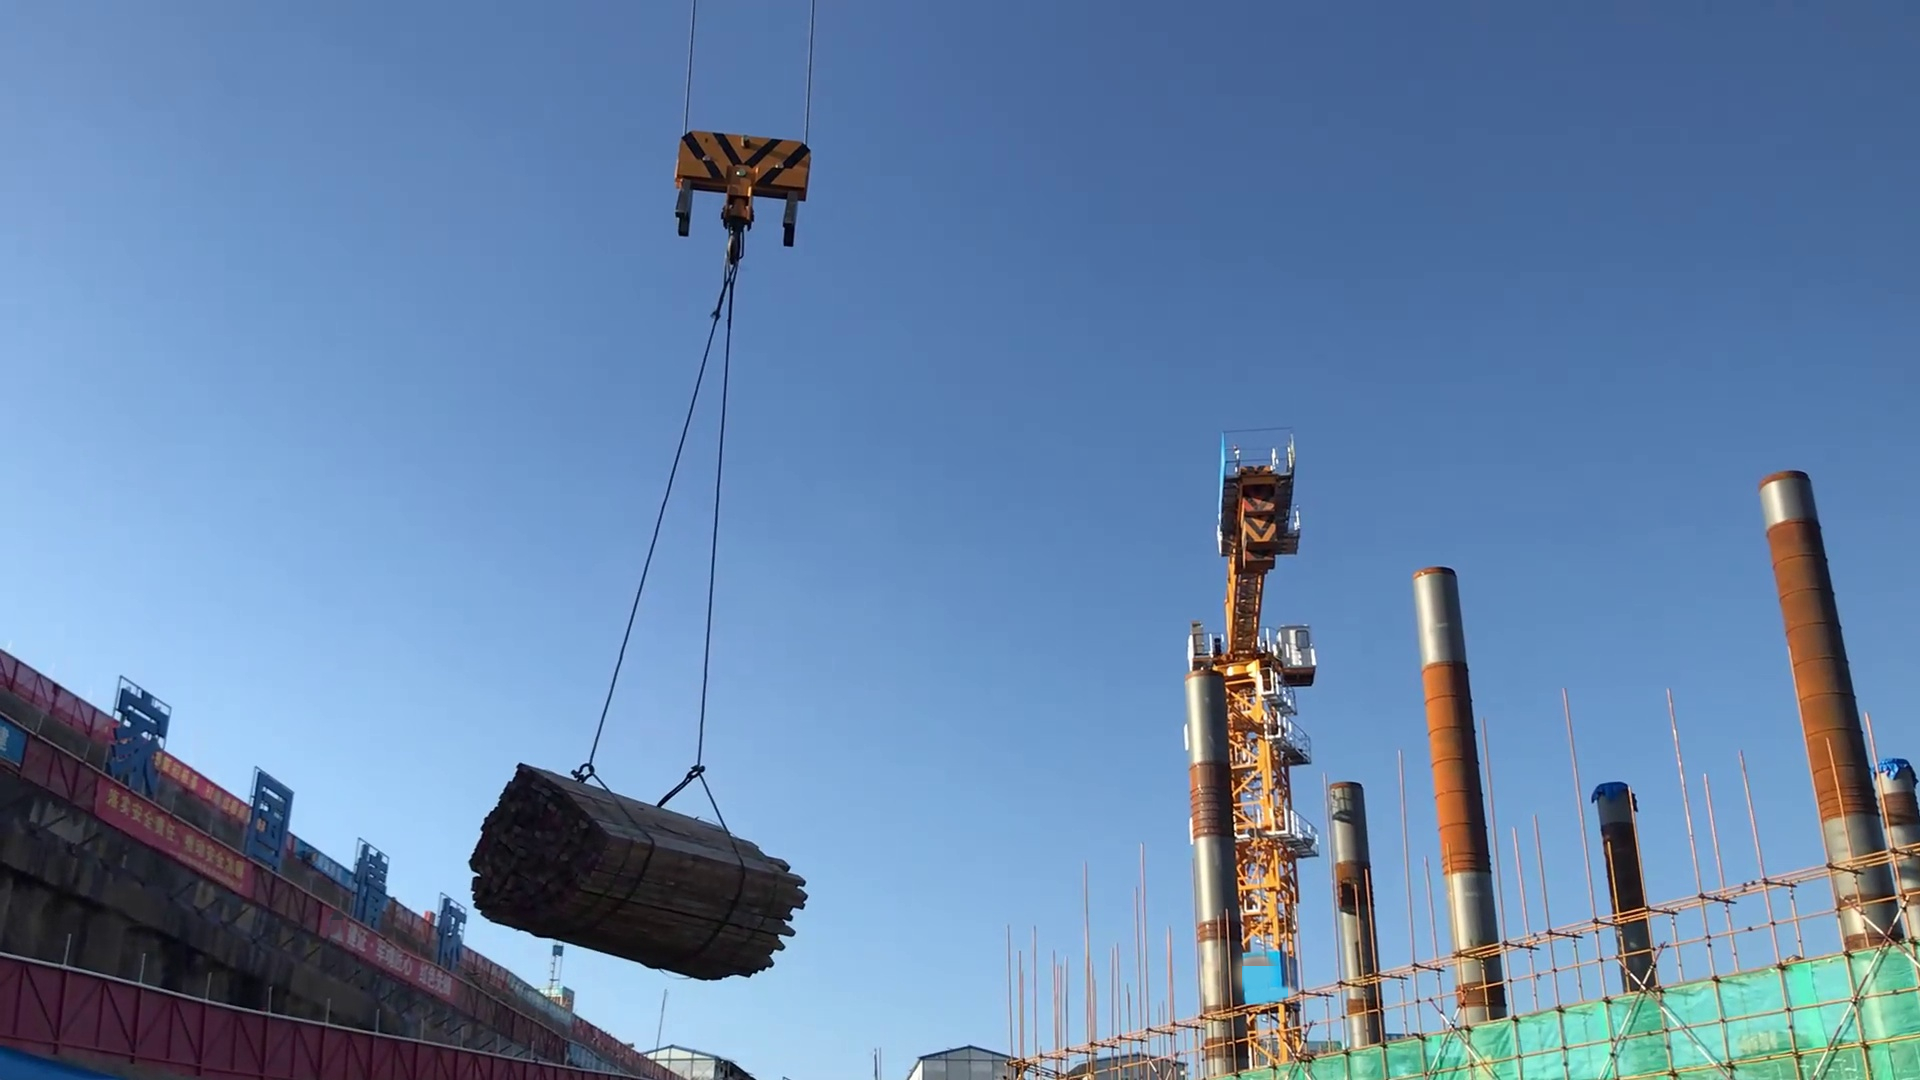fence: (4, 942, 578, 1080)
hook: (632, 95, 841, 521)
slogan: (84, 782, 245, 898), (319, 902, 462, 1025), (161, 746, 247, 816)
wood: (450, 760, 825, 1004)
